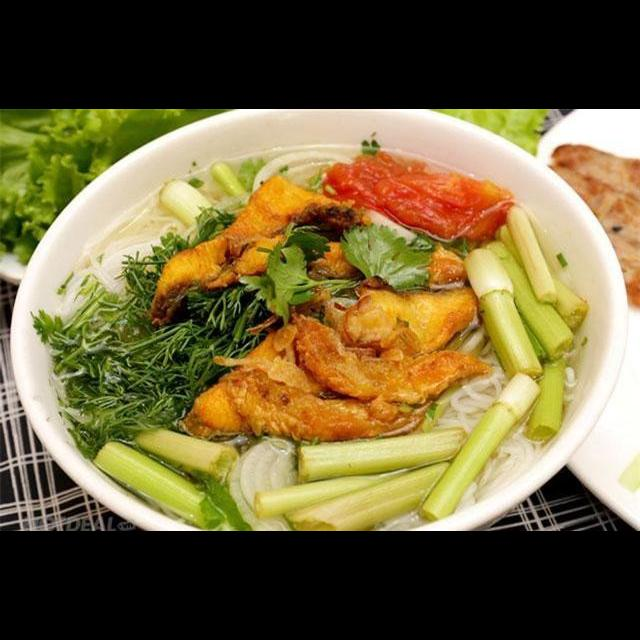bun: (449, 405, 561, 520), (434, 358, 517, 436)
bun ca: (4, 131, 619, 514)
ca: (139, 163, 363, 333), (276, 299, 495, 403), (223, 359, 421, 441), (334, 285, 490, 358)
